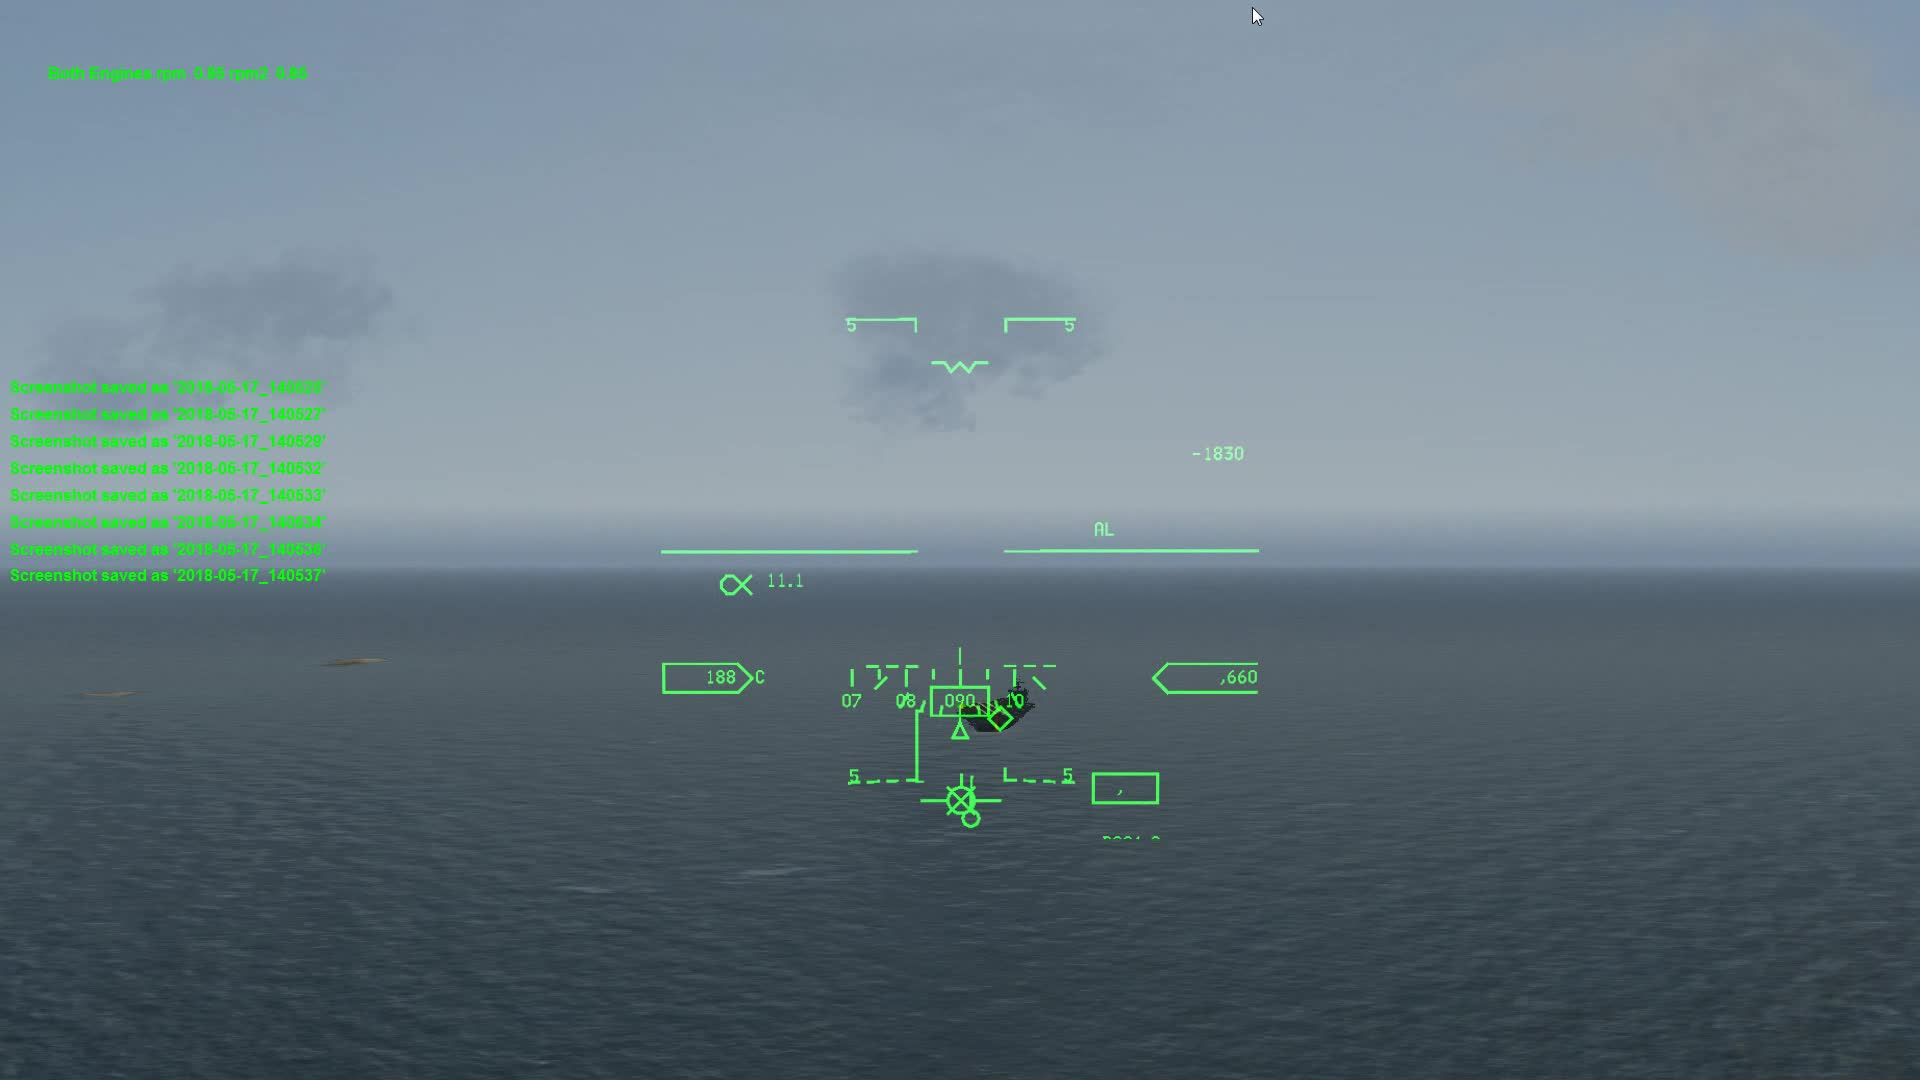speed vector: (920, 771, 1007, 833)
